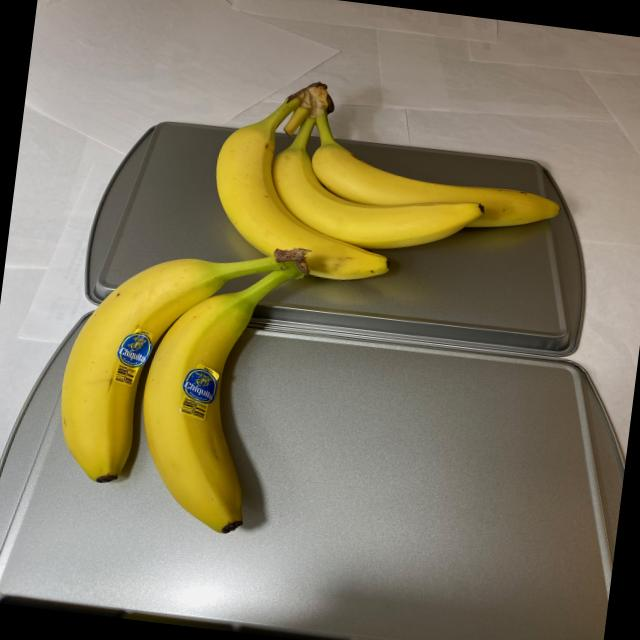banana: (200, 70, 576, 314), (39, 220, 314, 547)
